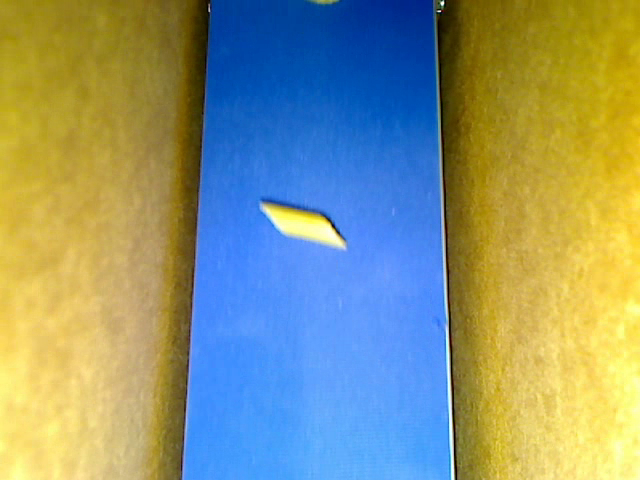penne: (263, 203, 346, 248)
